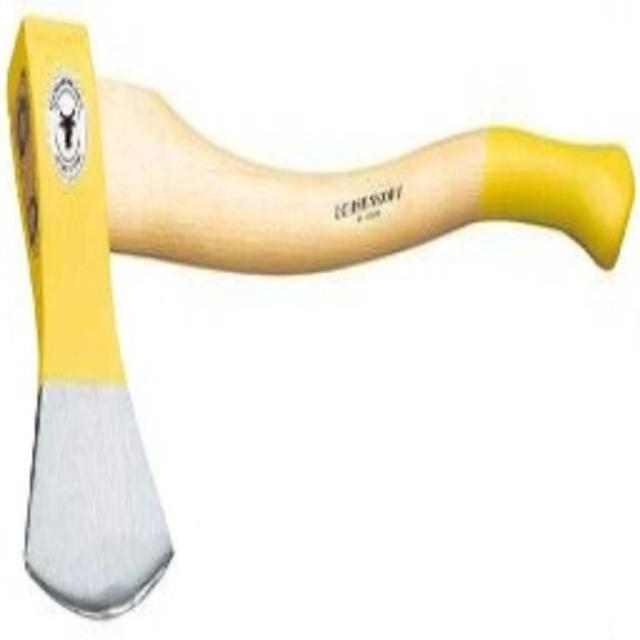ax: (1, 14, 640, 627)
